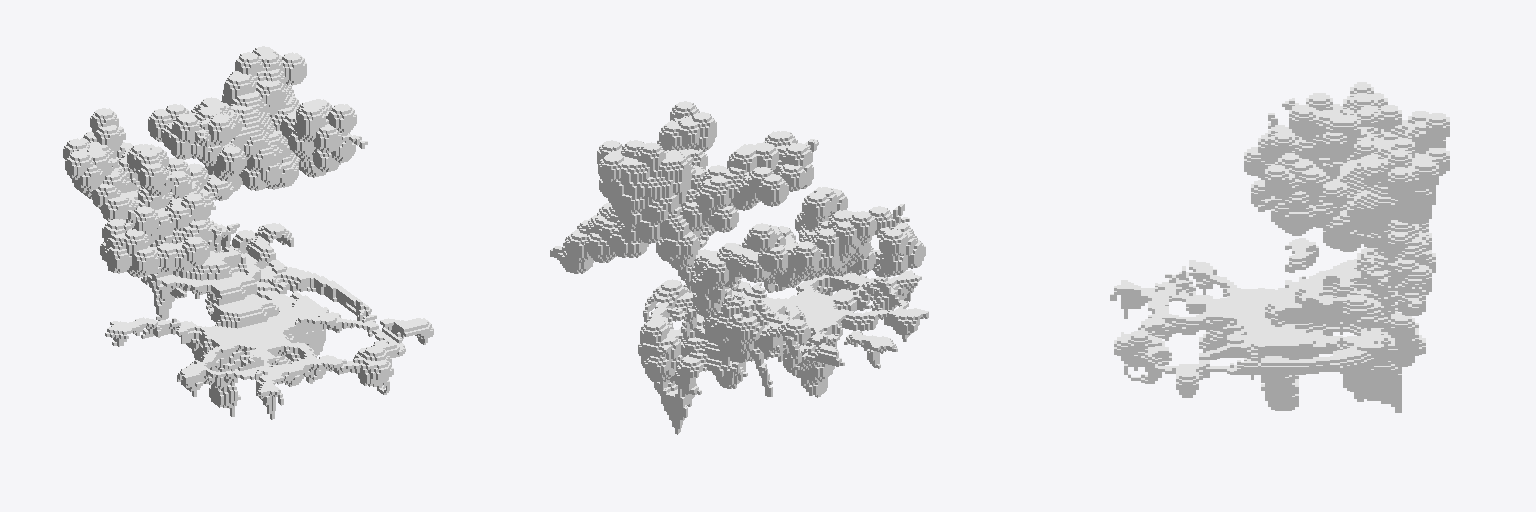
File: homeIsland.obj
3 renders of one model, left to right at view 1: azimuth 30°, elevation 25°; view 2: azimuth 150°, elevation 25°; view 3: azimuth 270°, elevation 25°, orthographic.
Size of the model in its own units: 100 by 91 by 99.